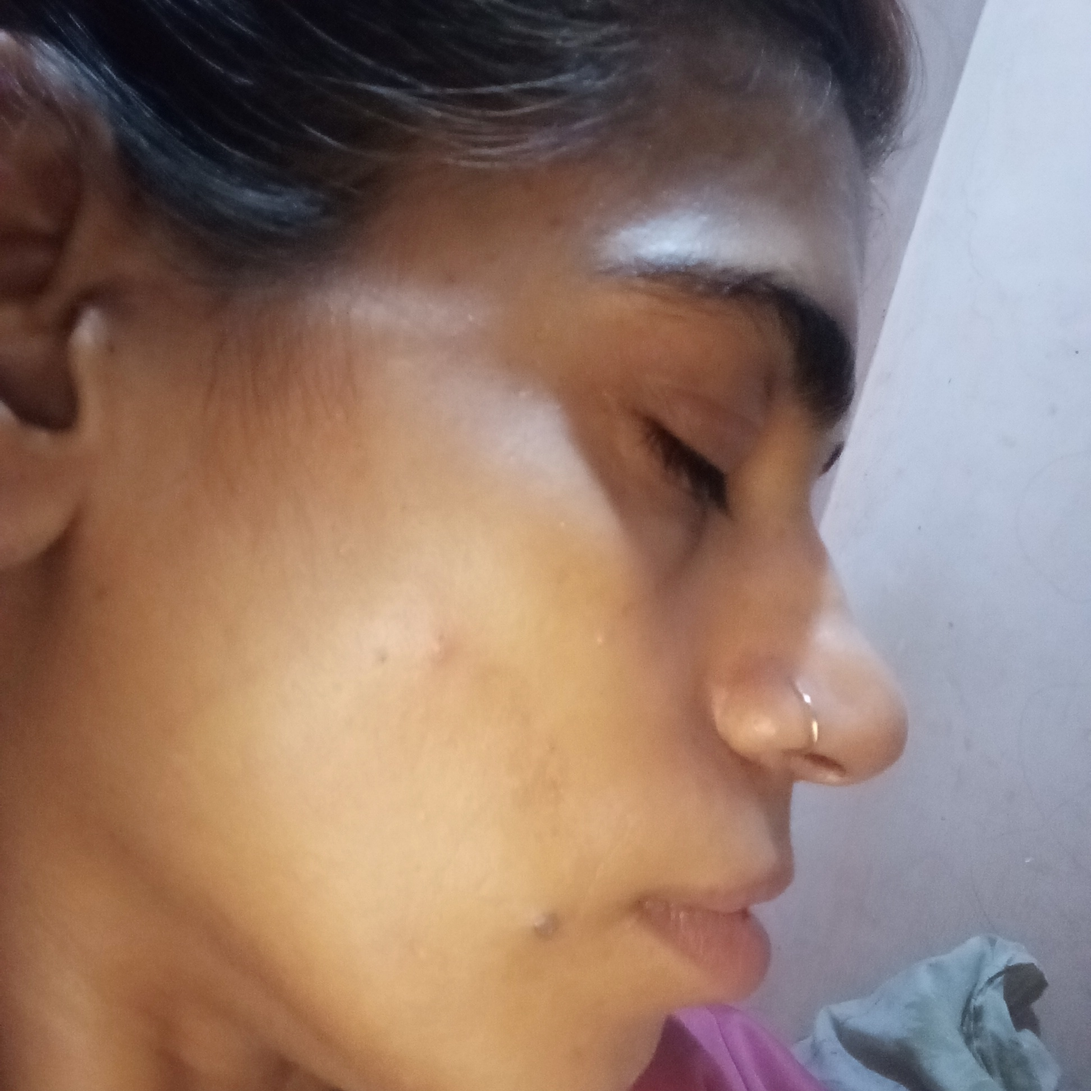closed_comedone: (583, 621, 619, 656)
papule: (407, 629, 474, 675)
